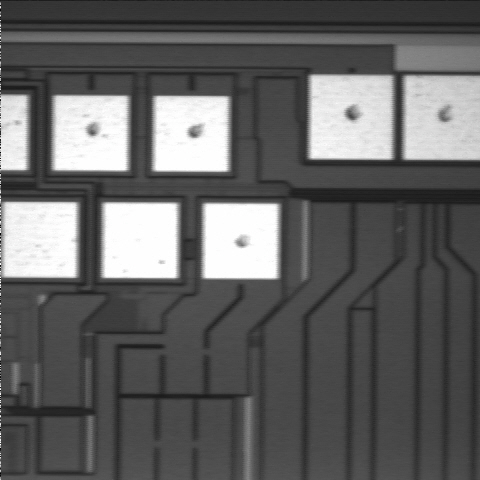pad: (309, 75, 392, 159), (202, 203, 279, 279), (153, 96, 229, 172), (2, 202, 78, 278), (102, 202, 178, 278), (53, 96, 128, 171)
